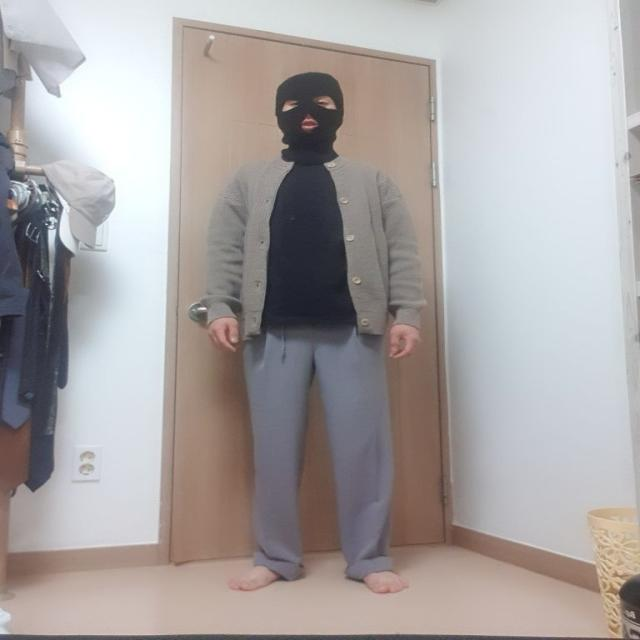cardigan: (207, 156, 426, 344)
trainingpants: (236, 320, 399, 584)
